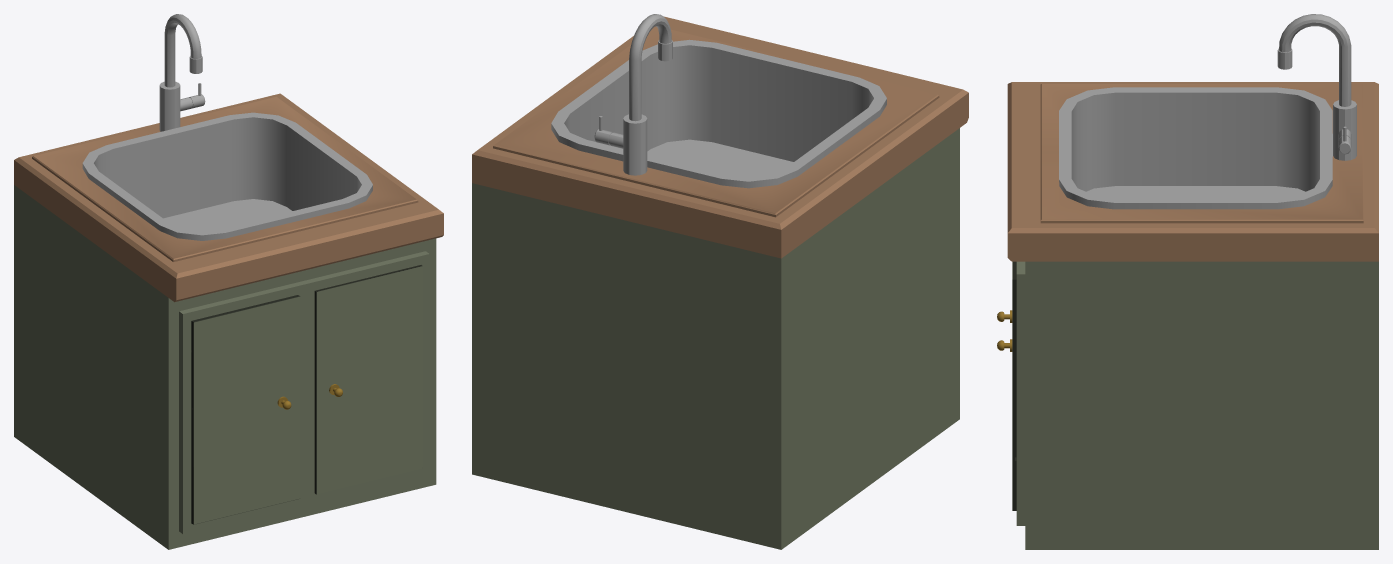
The model's file is Sink.glb.
The picture shows the model from 3 angles, left to right: view 1: azimuth 30°, elevation 25°; view 2: azimuth 150°, elevation 25°; view 3: azimuth 270°, elevation 25°; orthographic projection. The views are drawn at different scales.
Visible parts, largest first — view 1: CounterWithSink; view 2: CounterWithSink; view 3: CounterWithSink.
Boxes of the visible parts, bbox=[...] form: CounterWithSink: bbox=[14, 14, 443, 549]; CounterWithSink: bbox=[472, 14, 968, 549]; CounterWithSink: bbox=[997, 14, 1378, 549].
Bounding box in the file's own units: 1 × 1.45 × 1.08.
Materials: 2 (1 with a texture image).
